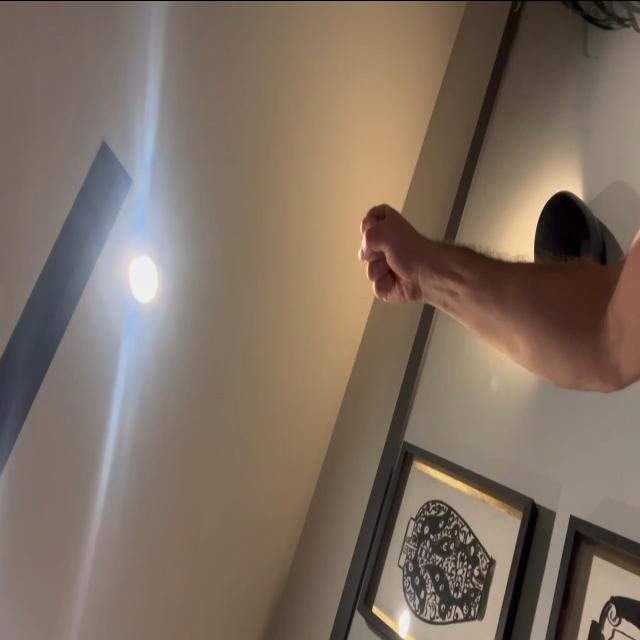Rock: (356, 202, 422, 306)
